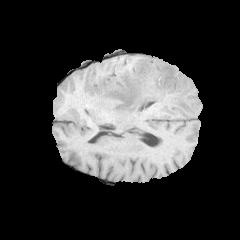glioma: (99, 59, 194, 113)
